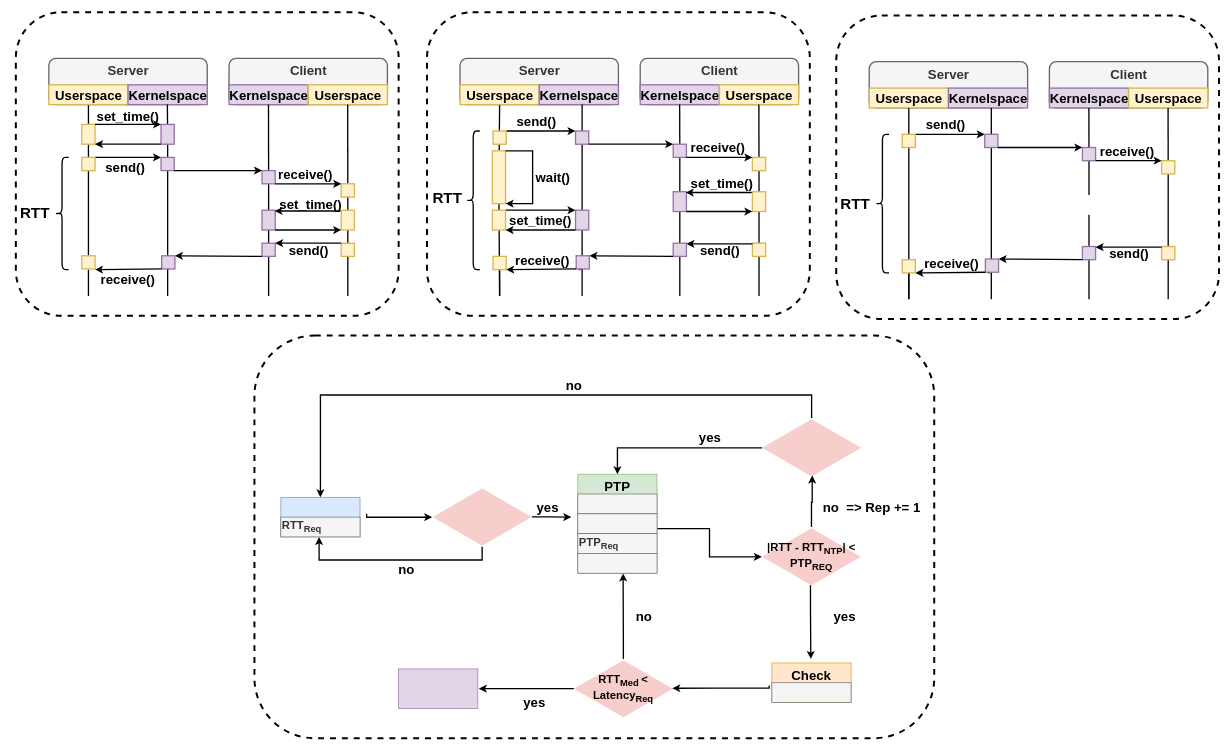
Image size: 1232x750. Some labels were removed from this diagram. The box of each missing label's shape, as (x1, y1, x2, y2) in pixels:
Calc: (398, 668, 478, 709)
Check-Repetition: (835, 14, 1220, 320)
Latency Req: (771, 682, 851, 703)
NTP: (280, 497, 360, 537)
NTP-Repetition: (15, 11, 399, 316)
PTP Max_Rep: (577, 513, 657, 534)
PTP-Repetition: (426, 11, 810, 316)
Rep: (577, 553, 657, 573)
Rep < PTP Max_Rep: (762, 418, 861, 477)
RTT < RTT Req: (432, 487, 531, 546)
RTT NTP: (577, 493, 657, 514)
Timing Flow Chart: (253, 334, 935, 739)
